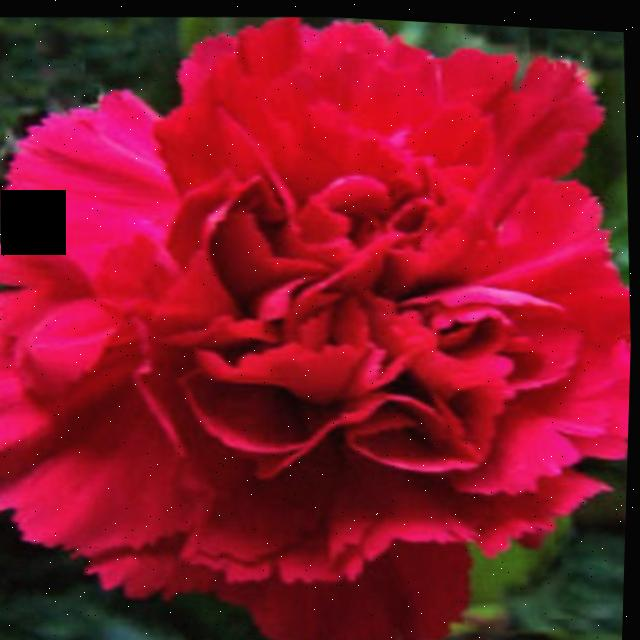carnation: (0, 7, 634, 640)
